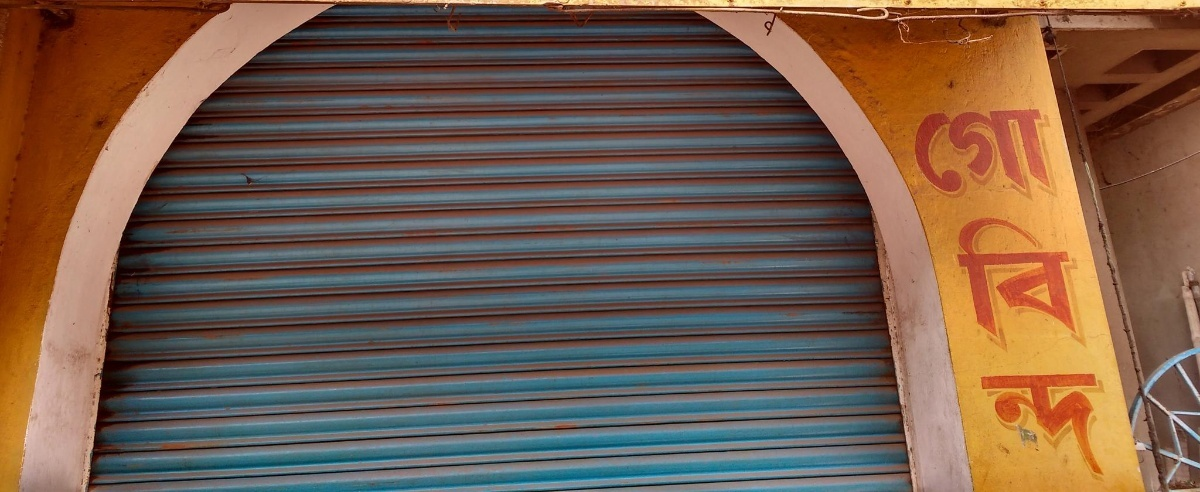text: (913, 96, 928, 485), (929, 96, 944, 485), (945, 96, 960, 485), (961, 96, 976, 485), (977, 96, 992, 485), (993, 96, 1008, 485), (1009, 96, 1024, 485), (1025, 96, 1040, 485), (1041, 96, 1056, 485), (1057, 96, 1072, 485), (1073, 96, 1088, 485), (1089, 96, 1104, 485), (1105, 96, 1120, 485), (900, 96, 912, 485), (1121, 96, 1133, 485)
